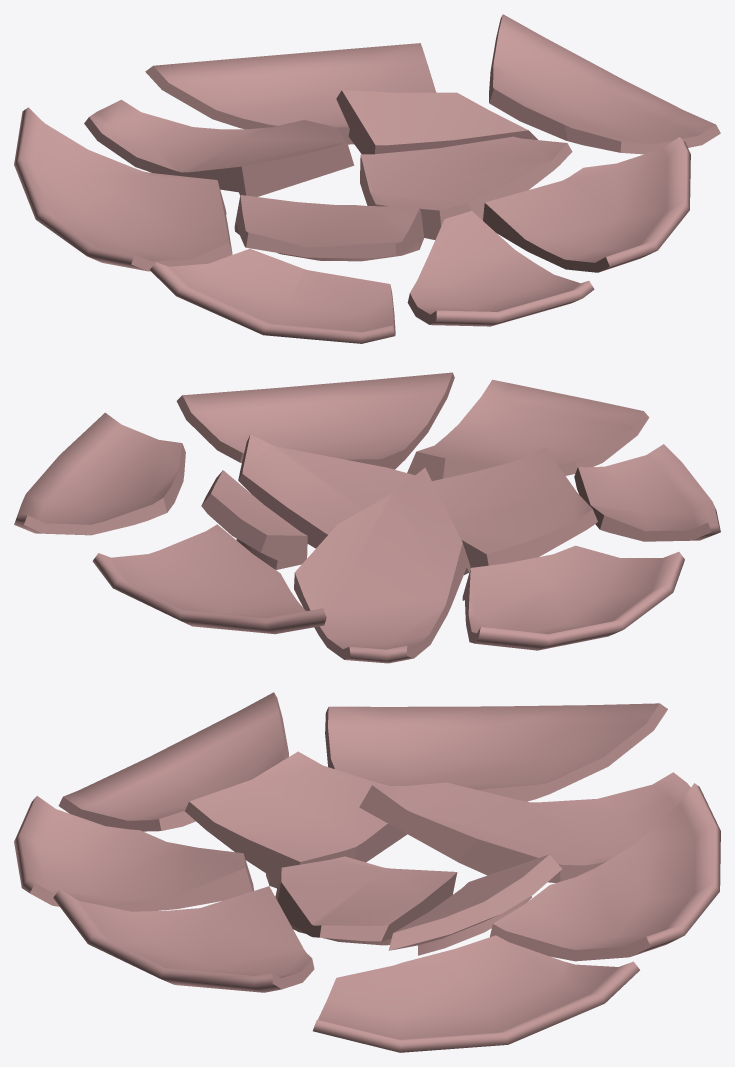
The model's file is Ceramic_07.FBX.
The picture shows the model from 3 angles, top to bottom: view 1: azimuth 30°, elevation 25°; view 2: azimuth 150°, elevation 25°; view 3: azimuth 270°, elevation 25°; orthographic projection. The views are drawn at different scales.
Visible parts, largest first — view 1: Ceramic_07; view 2: Ceramic_07; view 3: Ceramic_07.
Part boxes in pixels (<box>): Ceramic_07: <box>14,14,720,343</box>; Ceramic_07: <box>14,372,720,663</box>; Ceramic_07: <box>14,692,720,1052</box>.
Bounding box in the file's own units: 66.6 × 8.36 × 61.43.
